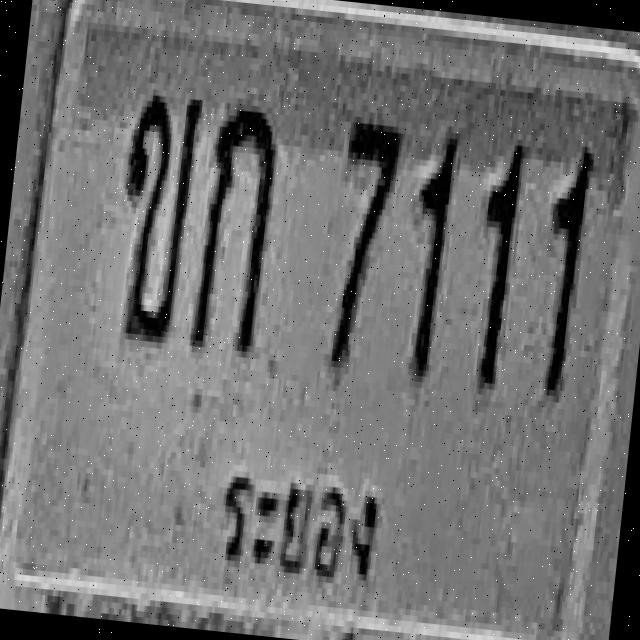1: (534, 138, 596, 397), (400, 126, 460, 380), (466, 134, 526, 386)
10GorGai: (188, 98, 280, 356)
11KhorKhai: (107, 87, 203, 344)
7: (323, 113, 402, 374)
Rayong: (202, 432, 410, 637)
